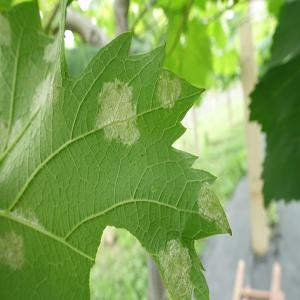Folha: (0, 0, 232, 298)
Fungo: (94, 76, 140, 148), (193, 178, 238, 243), (152, 235, 196, 300), (28, 75, 66, 120), (8, 201, 49, 234), (154, 68, 182, 110), (0, 229, 26, 271), (42, 31, 68, 64)
